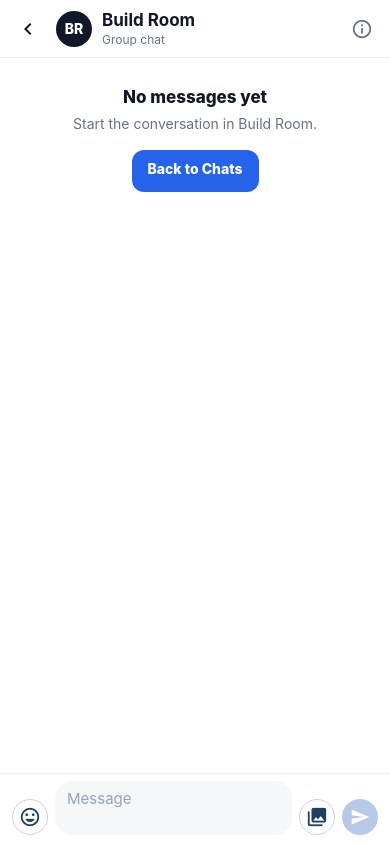
NativeChatRoomPage › shows contained group info failure copy while keeping fallback summary visible
Click the button named "Chat info": click(362, 28) [344,10,380,46]
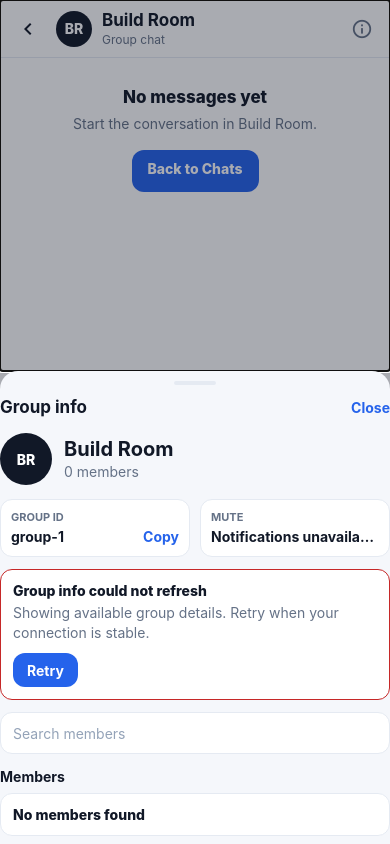
Expected: the 1st text "Build Room" is shown, [102,10,195,30]
Expected: the text "Group info could not refresh" is shown, [13,582,207,599]
